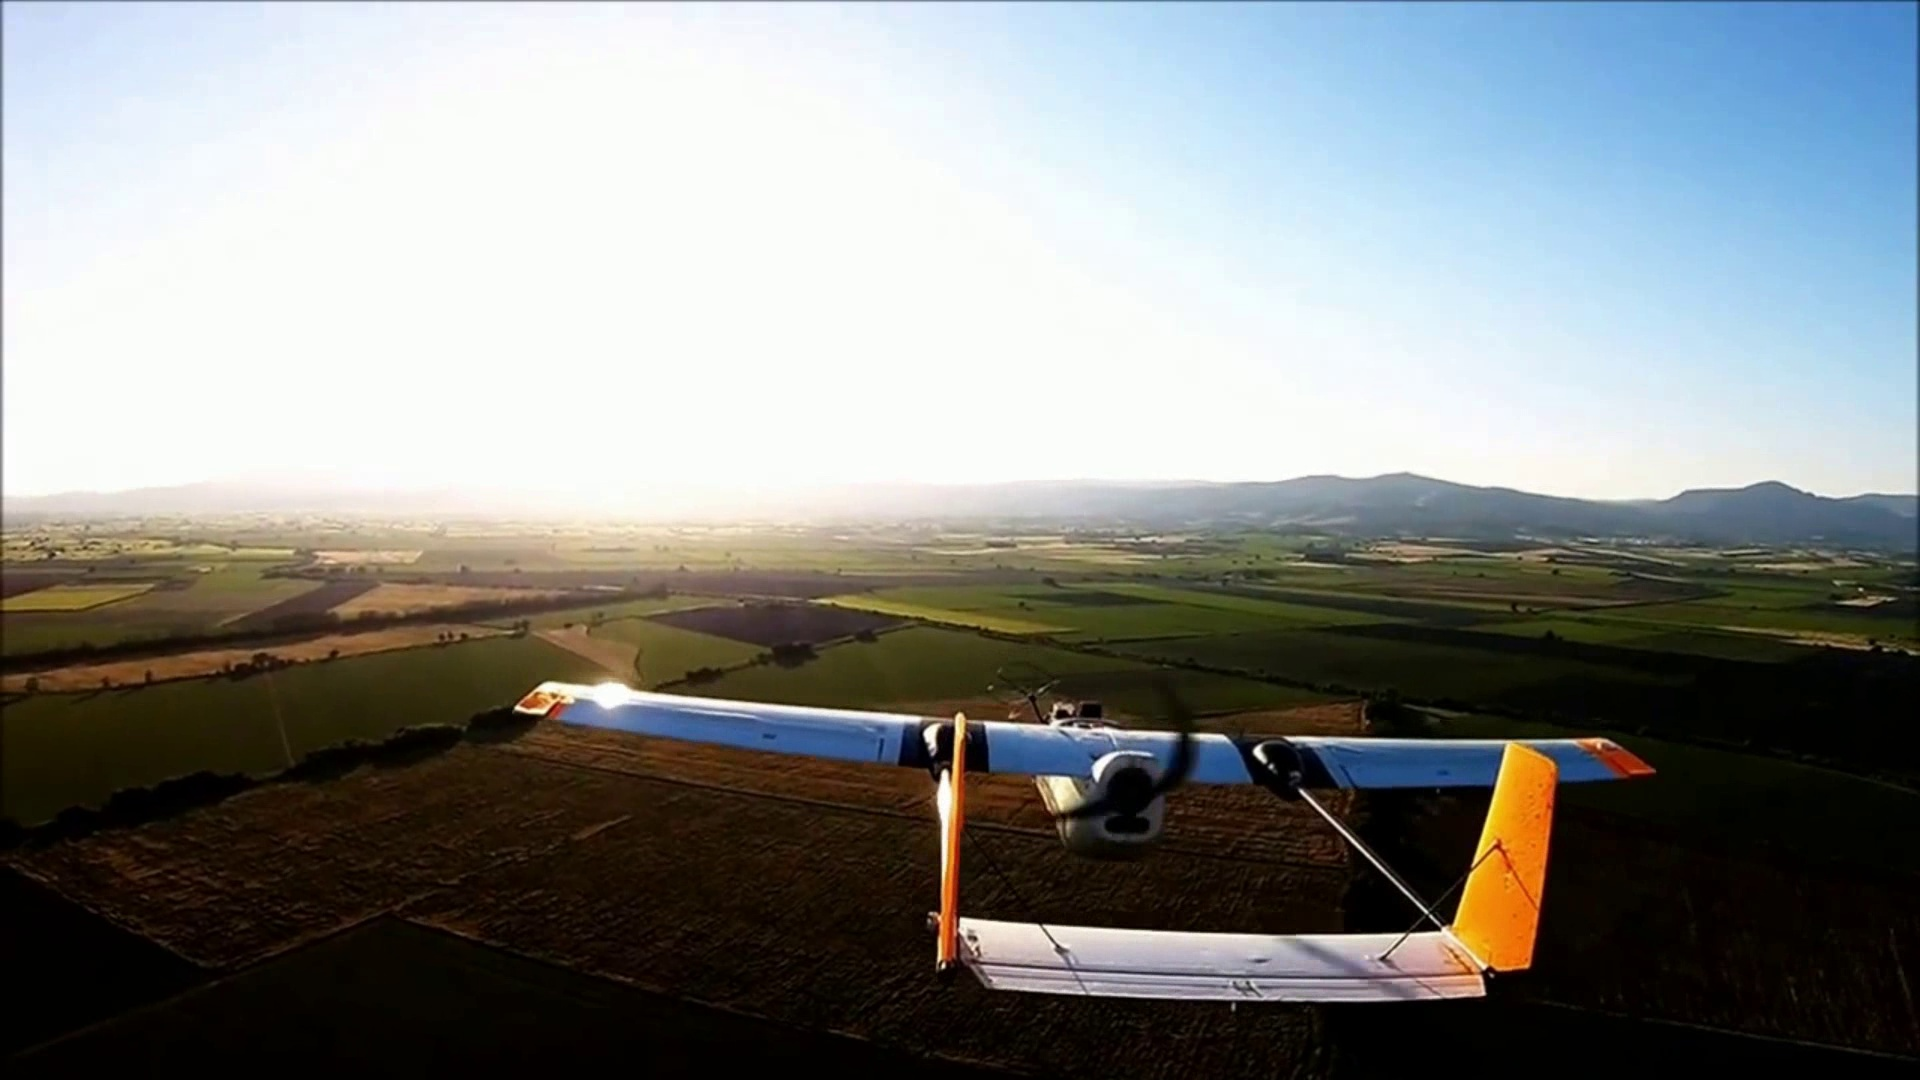airplane: (509, 684, 1648, 1006)
